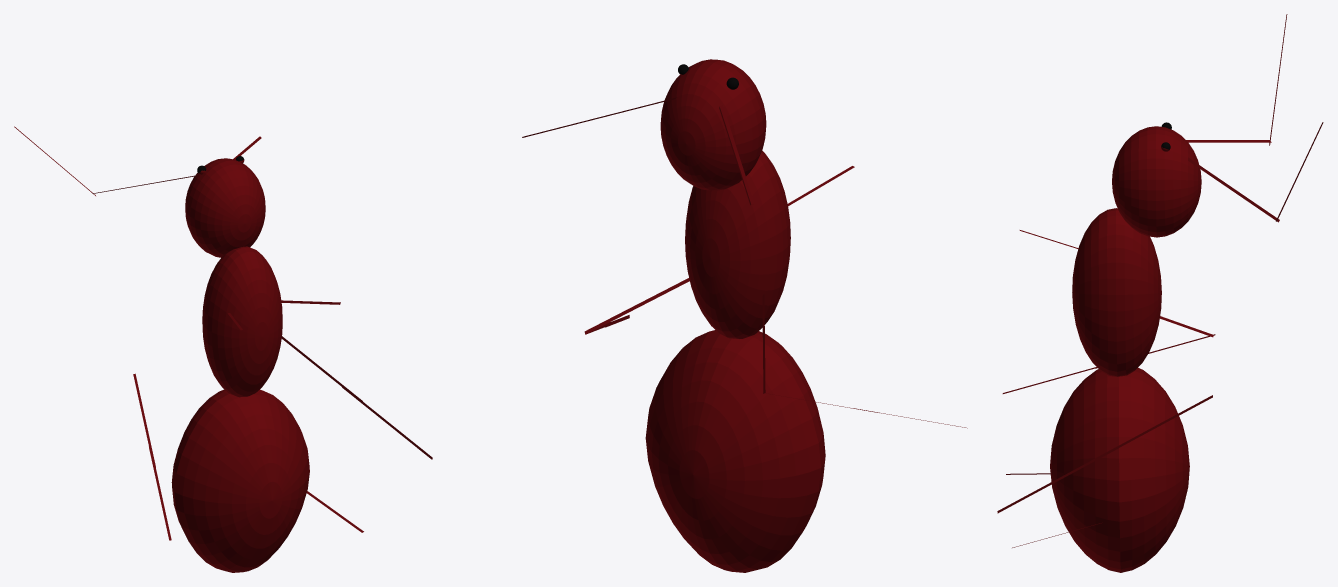
The model's file is AntMesh.fbx.
The picture shows the model from 3 angles, left to right: view 1: azimuth 30°, elevation 25°; view 2: azimuth 150°, elevation 25°; view 3: azimuth 270°, elevation 25°; orthographic projection. The views are drawn at different scales.
Parts seen in each view (by area): view 1: Sphere; view 2: Sphere; view 3: Sphere.
Part boxes in pixels (x1,y1,x2,y2): Sphere: (14, 126, 432, 572); Sphere: (522, 59, 967, 572); Sphere: (997, 14, 1323, 572).
Size of the model in its own units: 825 by 1256 by 727.
